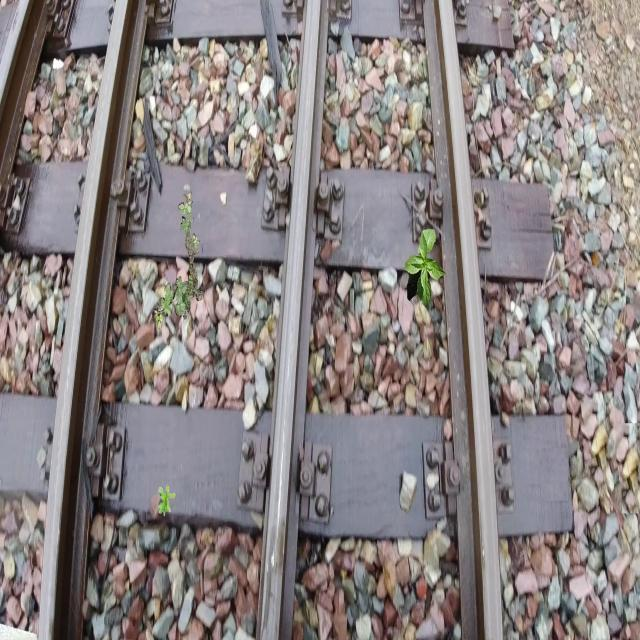Plant: (154, 192, 202, 330), (405, 229, 447, 309), (158, 484, 176, 516)
